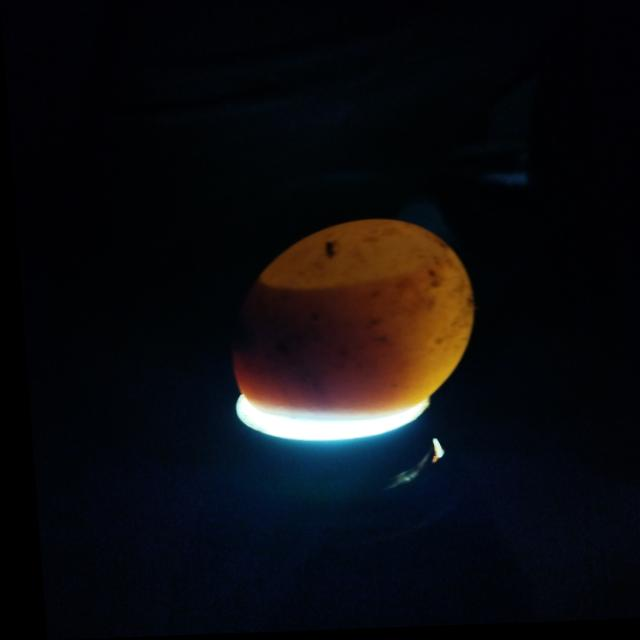Area Infectada: (224, 284, 385, 414)
